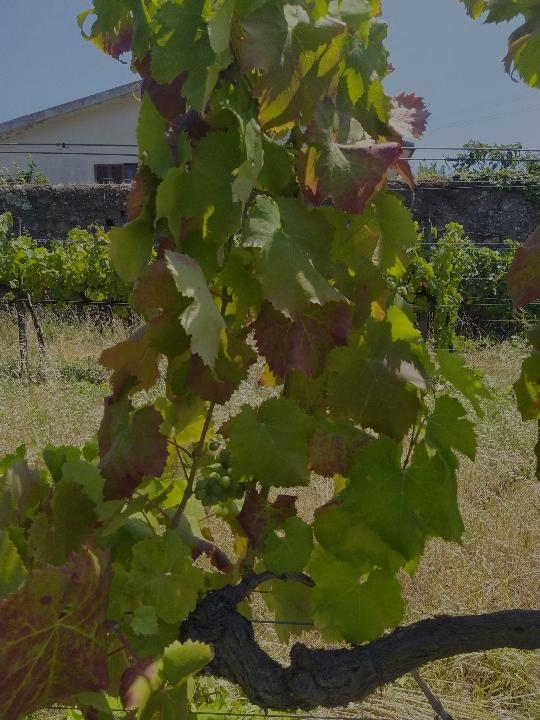grape: (191, 437, 247, 512)
